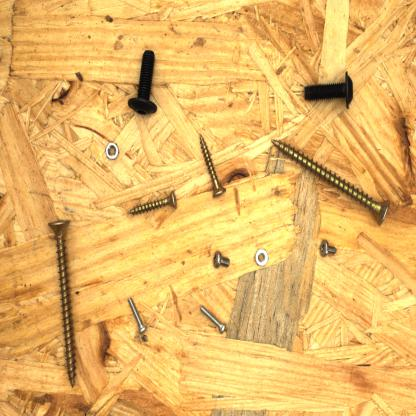screw: (270, 135, 395, 229), (46, 215, 80, 390), (124, 45, 160, 119), (298, 70, 356, 111), (197, 129, 228, 202), (125, 186, 182, 219), (126, 292, 152, 338), (196, 302, 229, 336), (210, 247, 234, 272), (211, 247, 233, 272), (316, 237, 338, 259)
